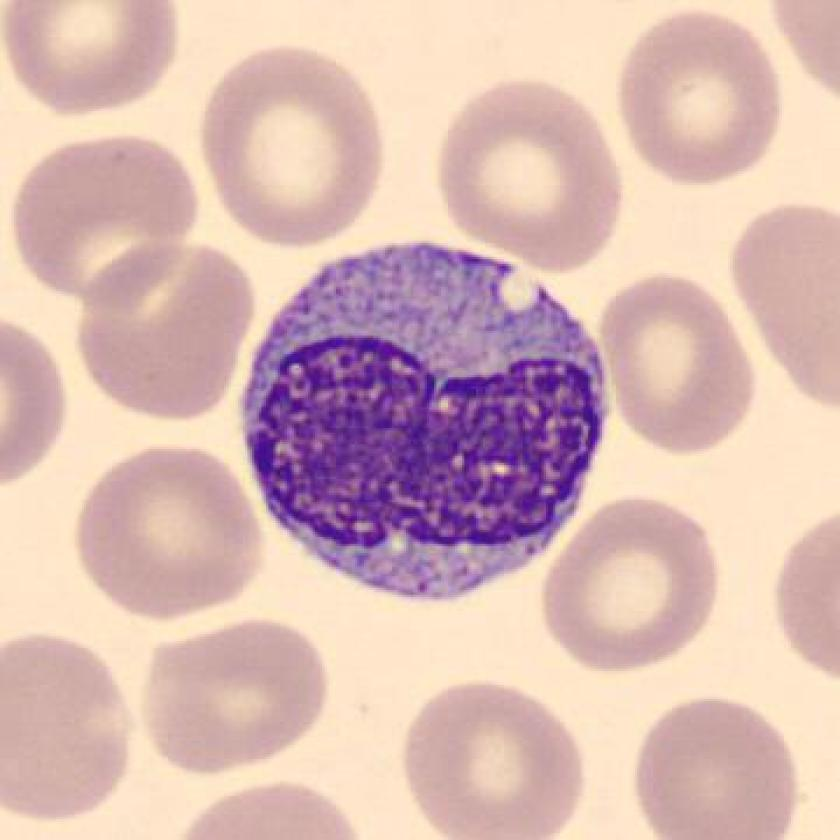monocyte: (221, 219, 627, 617)
